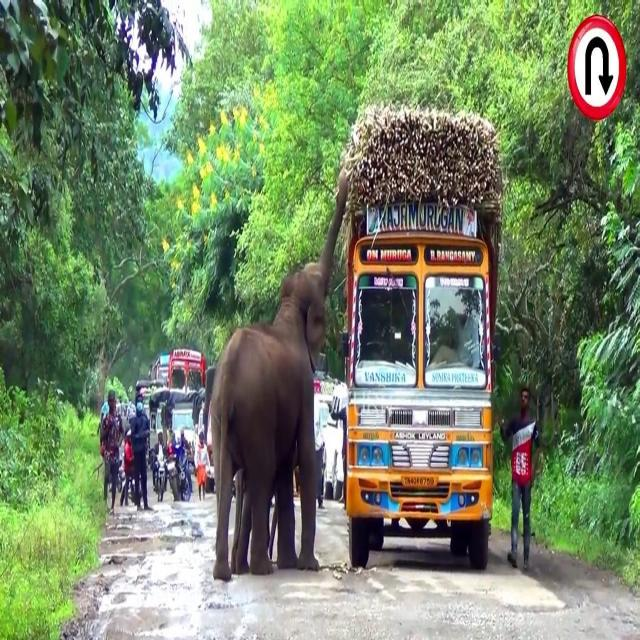Elephant: (209, 170, 349, 580)
